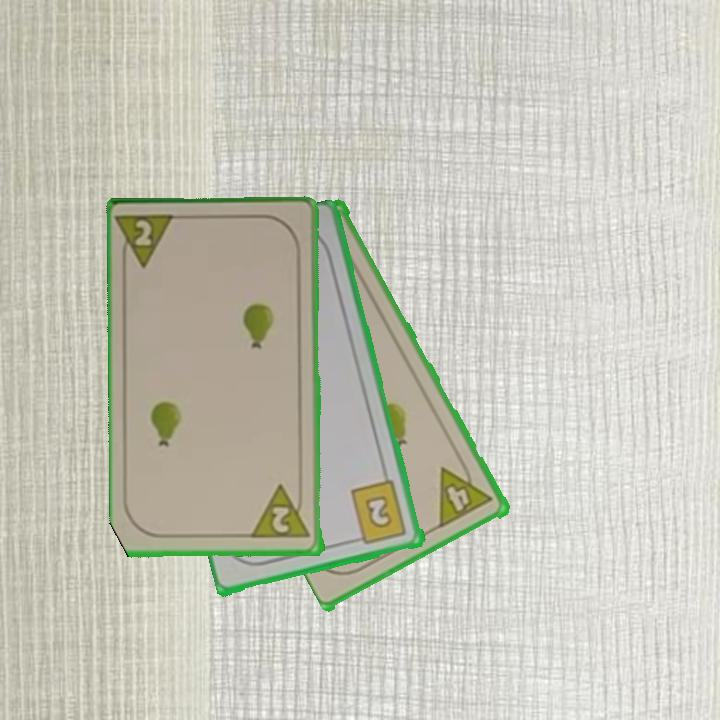2b: (348, 478, 410, 548)
2p: (116, 211, 181, 273), (251, 482, 314, 541)
4p: (435, 456, 497, 530)
